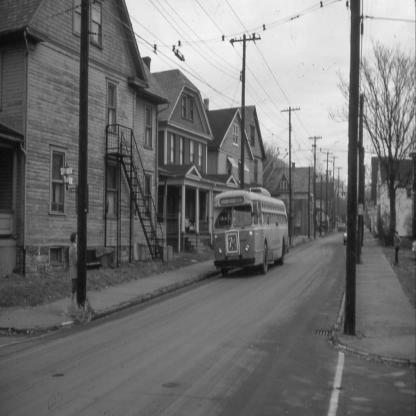bus: (207, 183, 293, 276)
